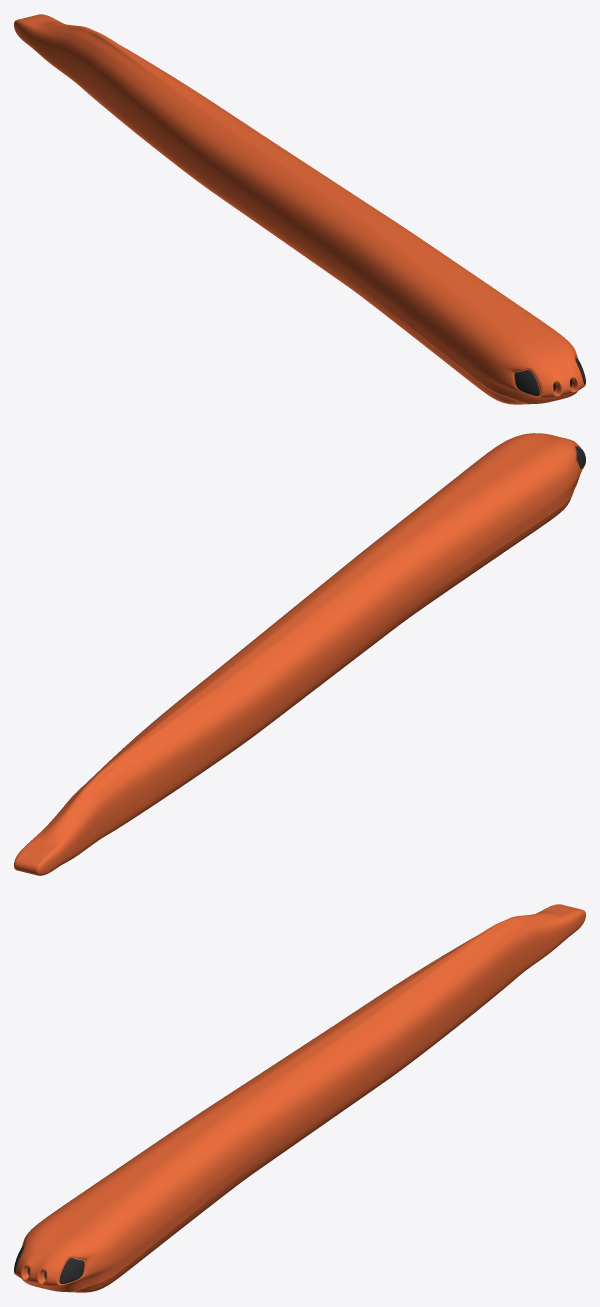
The model's file is yilan.fbx.
The picture shows the model from 3 angles, top to bottom: view 1: azimuth 30°, elevation 25°; view 2: azimuth 150°, elevation 25°; view 3: azimuth 330°, elevation 25°; orthographic projection.
Parts seen in each view (by area): view 1: Cube; view 2: Cube; view 3: Cube.
Part boxes in pixels (left/top/right/bottom): Cube: left=14, top=14, right=585, bottom=404; Cube: left=14, top=433, right=585, bottom=875; Cube: left=14, top=904, right=585, bottom=1292.
Bounding box in the file's own units: 69.97 × 59.46 × 811.
